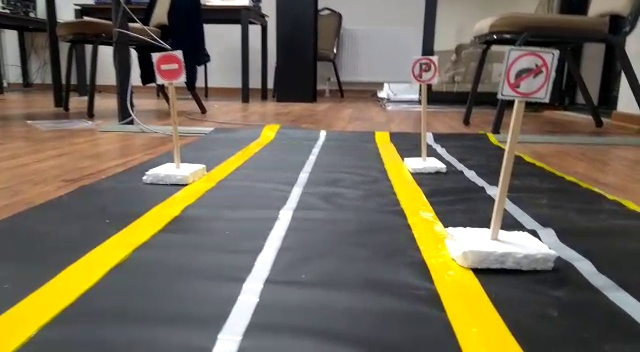girisi_olmayan_yol: (152, 51, 184, 83)
park_yapilmaz: (410, 57, 438, 84)
saga_donulmez: (503, 49, 552, 100)
